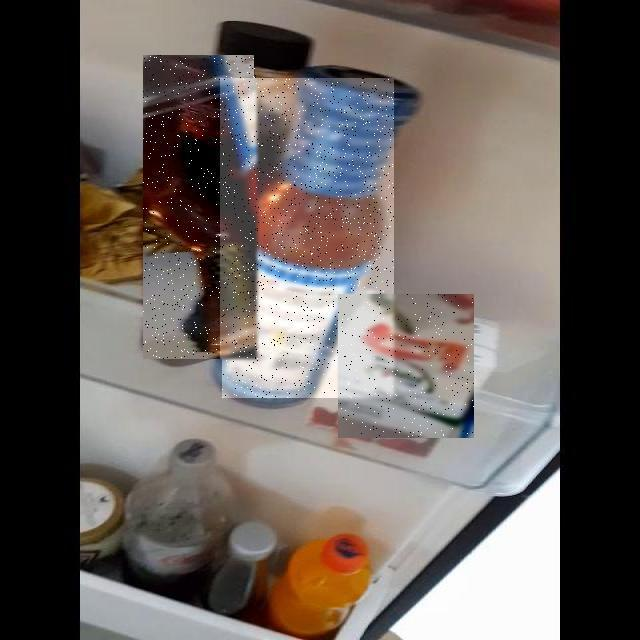cheese: (101, 219, 575, 640)
